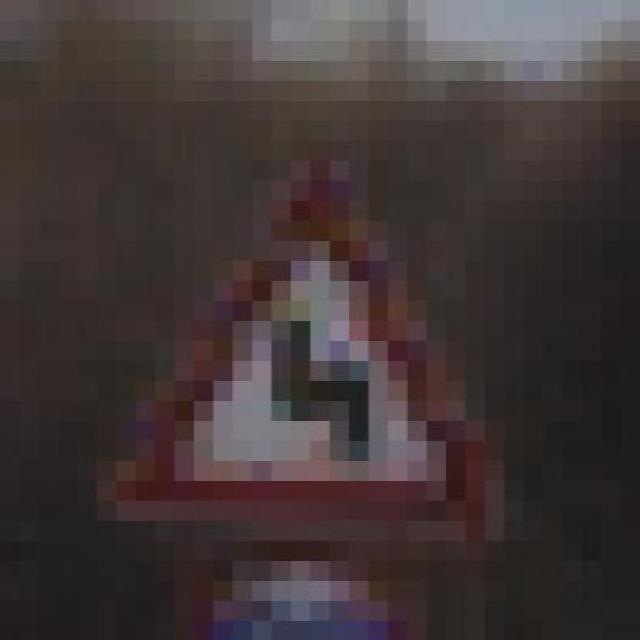Left Zig Zag Traffic: (77, 160, 505, 540)
